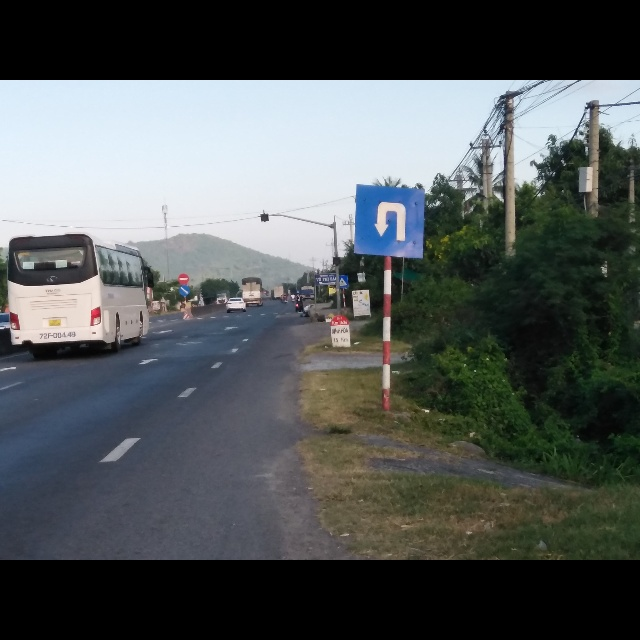Khu vực quay đầu xe: (353, 185, 426, 260)
